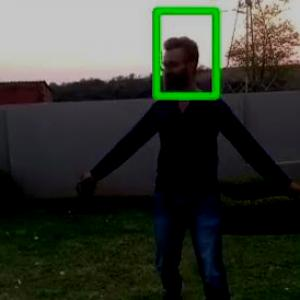land: (50, 10, 300, 299)
